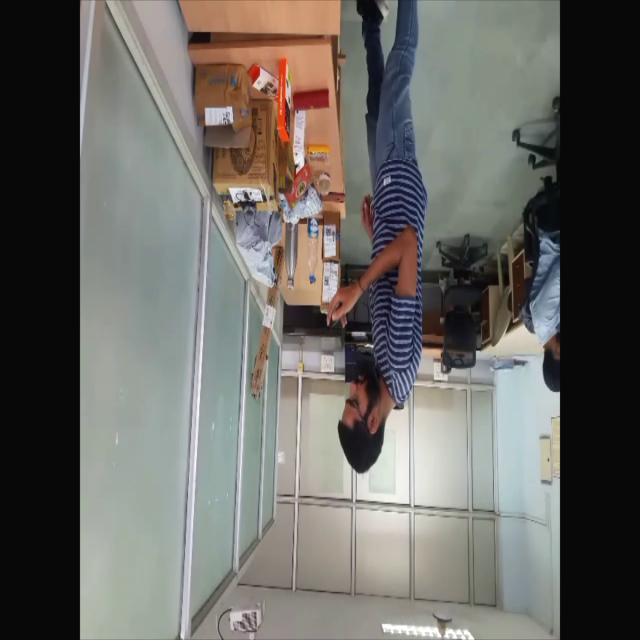normal: (322, 4, 438, 474)
